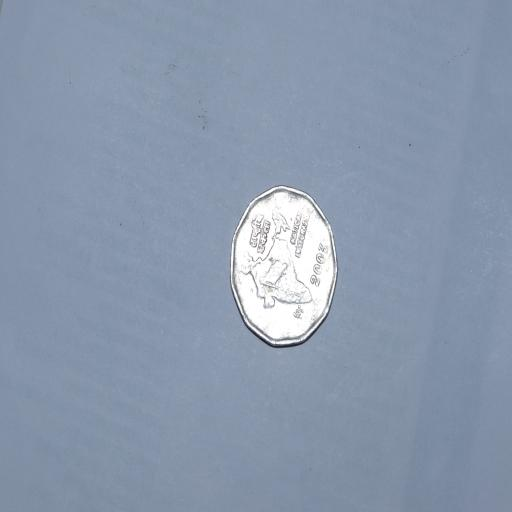rupee2: (229, 186, 337, 350)
